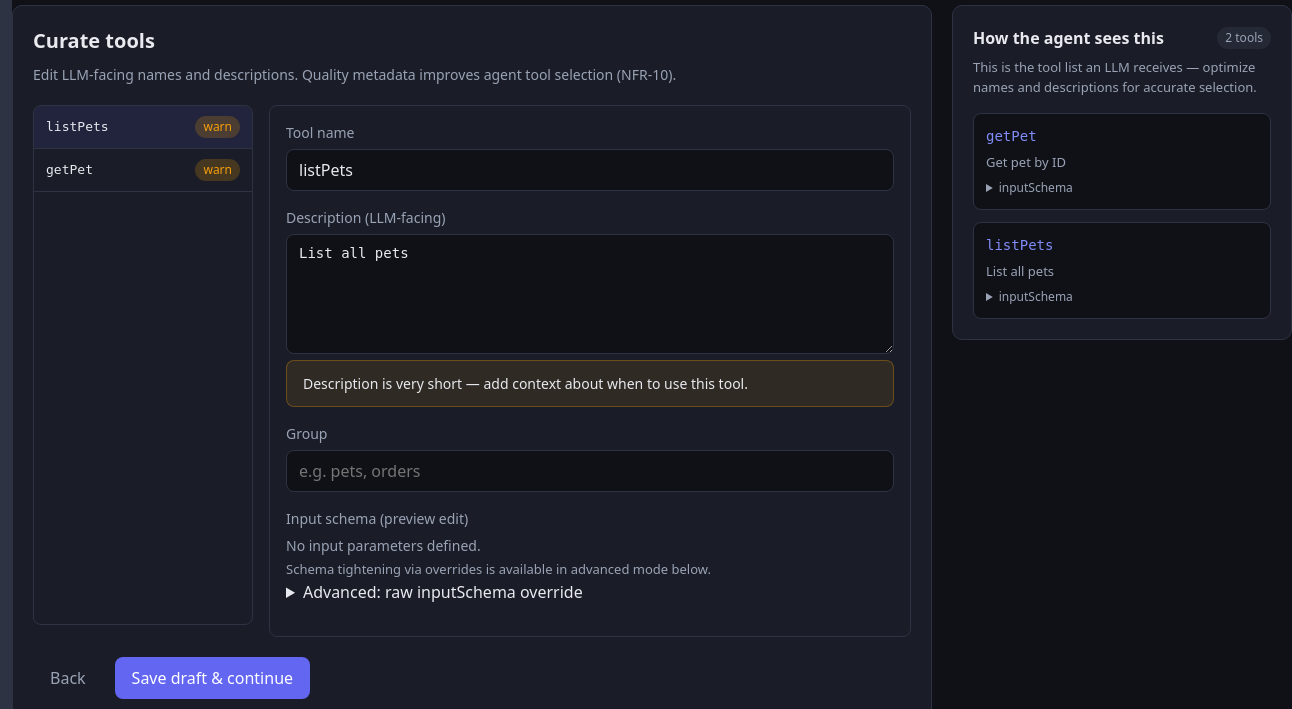
Test: WizardShell › shows conflict error when save hits published immutable version
(page scrolled)
Expected: the heading "Curate tools" is shown, [33,27,155,54]
Click the button "Save draft & continue": [212, 678] box [115,656,310,698]
(page scrolled)
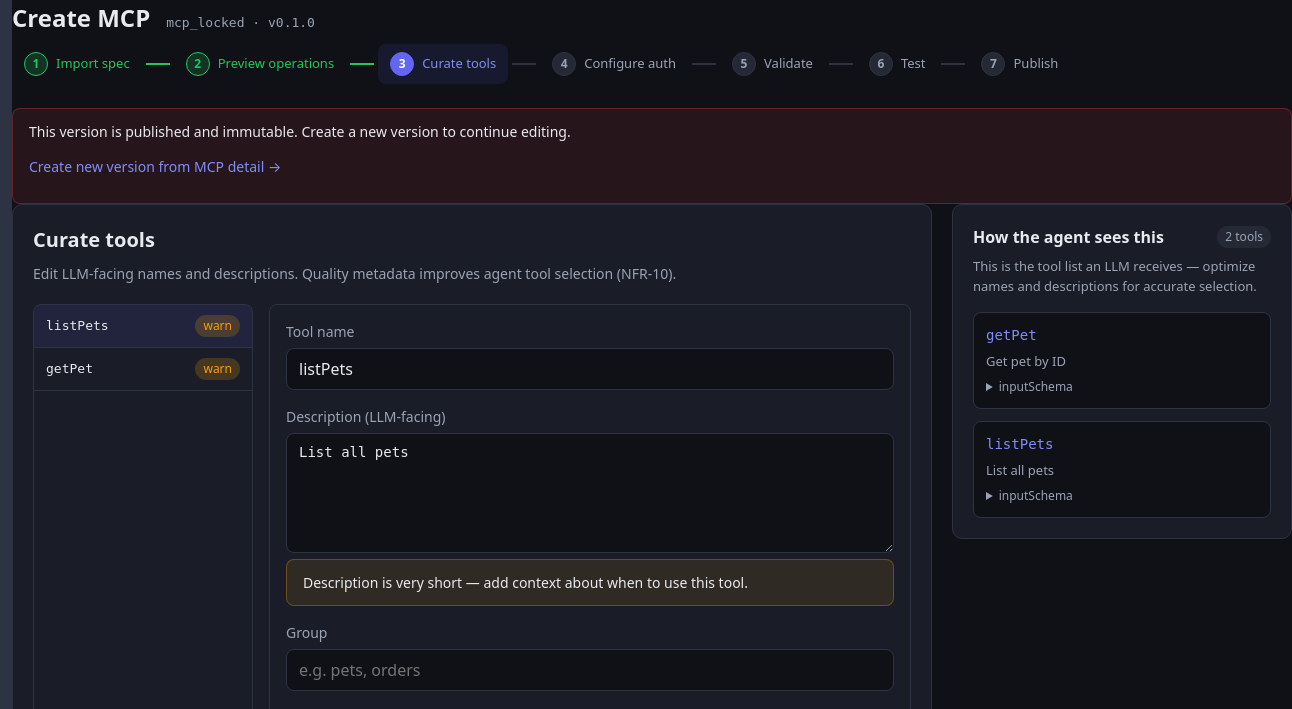
Expected: the text "published and immutable" is shown, [29,122,571,141]
